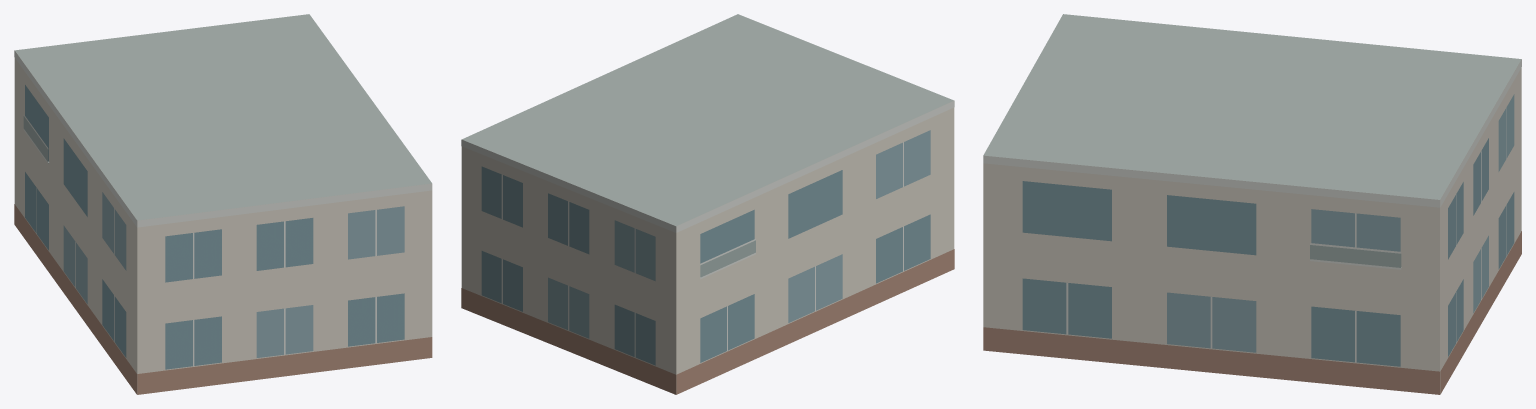
The model's file is survey-upis-32796726.glb.
3 views of the same model, side by side, from view 1: azimuth 30°, elevation 25°; view 2: azimuth 150°, elevation 25°; view 3: azimuth 270°, elevation 25° (orthographic). The views are drawn at different scales.
Visible parts, largest first — view 1: survey-upis-32796726.tmp; view 2: survey-upis-32796726.tmp; view 3: survey-upis-32796726.tmp.
Part boxes in pixels (bbox=[...]): survey-upis-32796726.tmp: bbox=[14, 14, 432, 394]; survey-upis-32796726.tmp: bbox=[461, 14, 954, 394]; survey-upis-32796726.tmp: bbox=[983, 14, 1521, 394].
Size of the model in its own units: 12.49 by 6.1 by 15.29.
